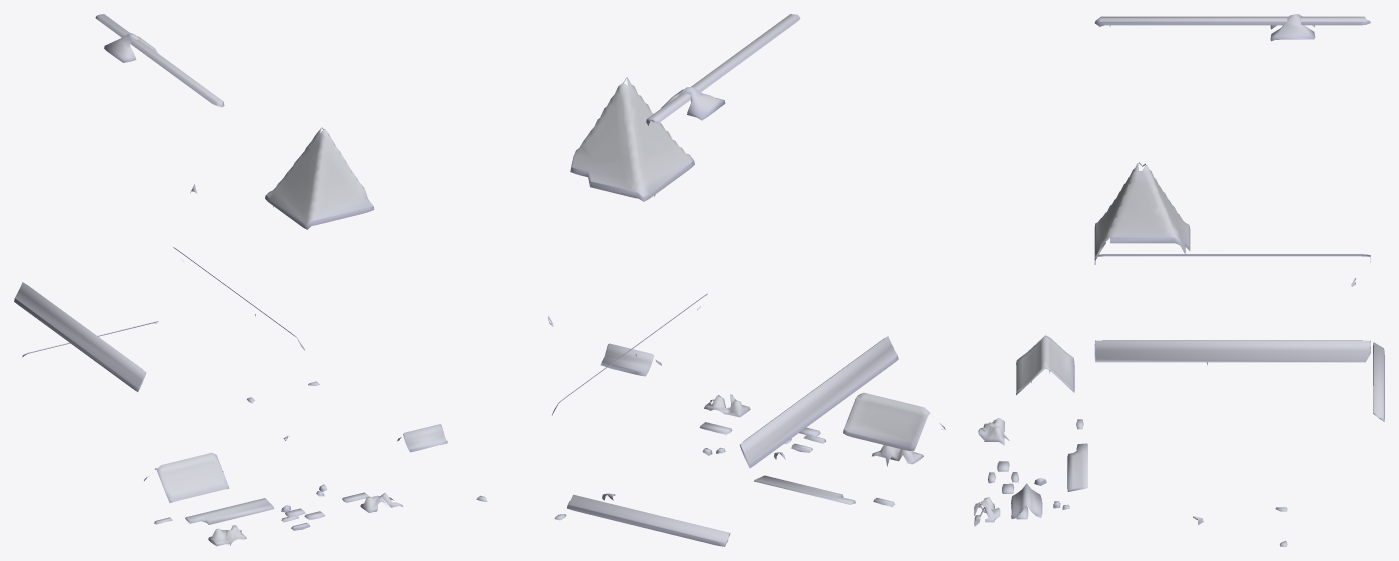
File: category.staking.xl.snow.glb
The picture shows the model from 3 angles, left to right: view 1: azimuth 30°, elevation 25°; view 2: azimuth 150°, elevation 25°; view 3: azimuth 270°, elevation 25°; orthographic projection. The views are drawn at different scales.
Parts seen in each view (by area): view 1: snow, tier.2; view 2: snow, tier.2; view 3: snow, tier.2.
Boxes of the visible parts, bbox=[...] form: snow: bbox=[14, 14, 447, 546]; tier.2: bbox=[104, 33, 157, 62]; snow: bbox=[476, 14, 945, 546]; tier.2: bbox=[661, 87, 725, 120]; snow: bbox=[974, 16, 1384, 546]; tier.2: bbox=[1270, 14, 1315, 41].
Size of the model in its own units: 13.04 by 18.48 by 15.08.
